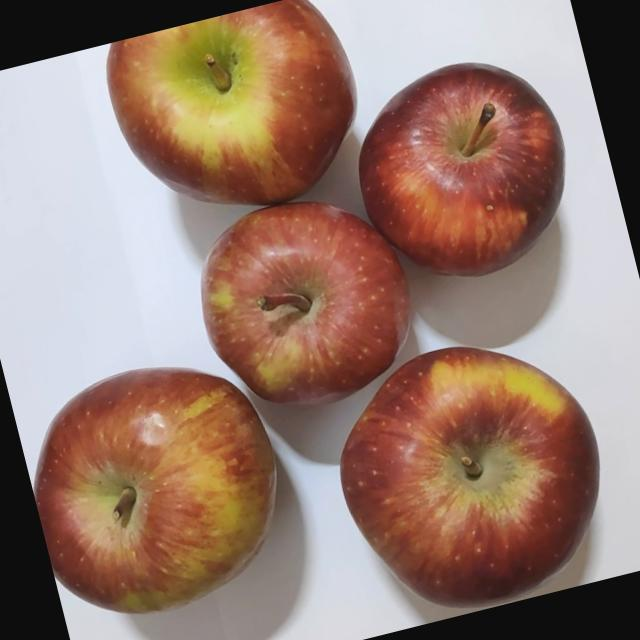apple: (307, 328, 628, 638), (12, 349, 316, 640), (84, 0, 388, 264), (327, 51, 596, 328), (168, 186, 442, 456)
